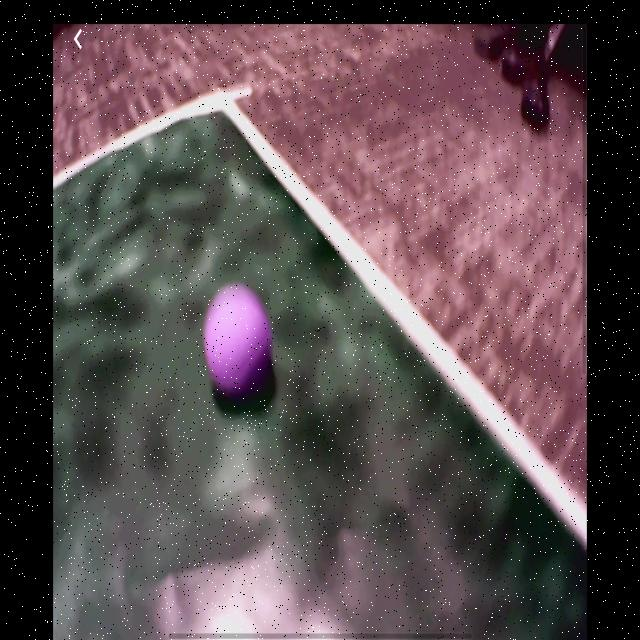ball: (205, 284, 272, 393)
